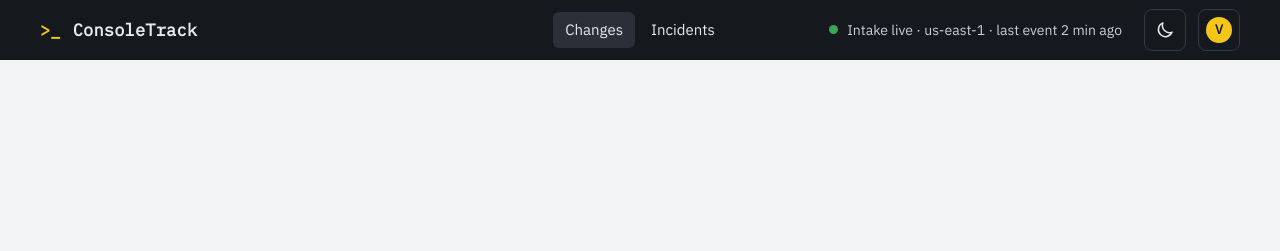
Test: viewer › shows the role in the user menu
This screenshot has width=1280, height=251.
What coordinates should you click on to do the following:
click the button named "Account: viewer"
I would click on:
 (1219, 30)
Its box is [1198,9,1240,51].
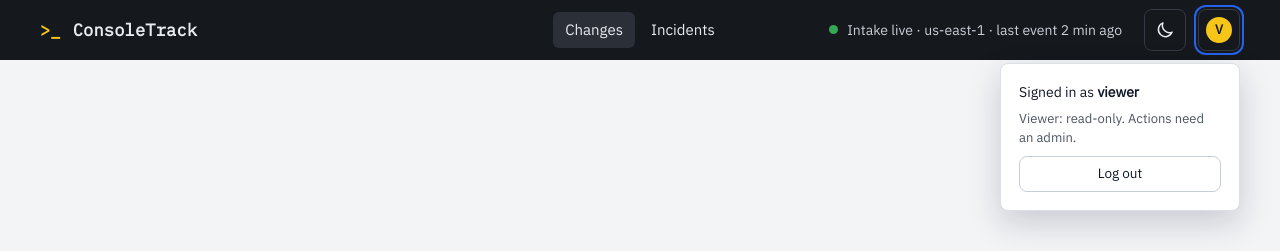
Check: the text "Viewer: read-only. Actions need an admin." is shown, box [1019,110,1221,148]
